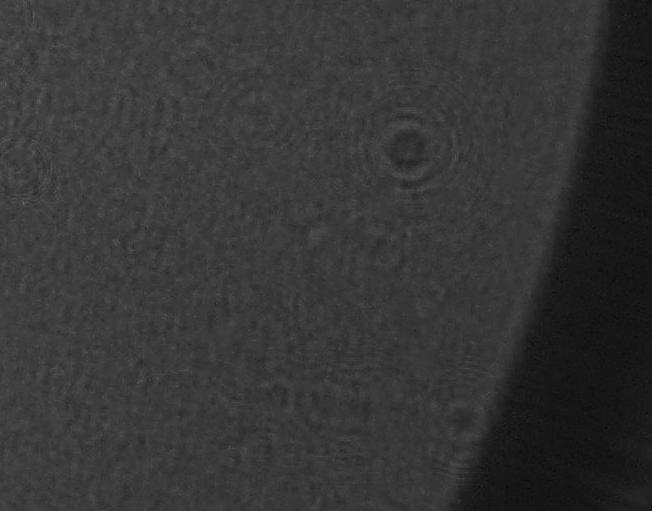bead: (347, 95, 438, 208), (0, 0, 44, 72)
